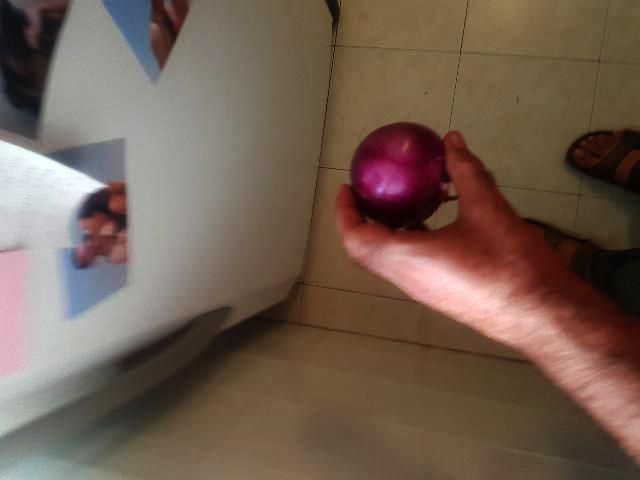onion: (349, 127, 452, 223)
